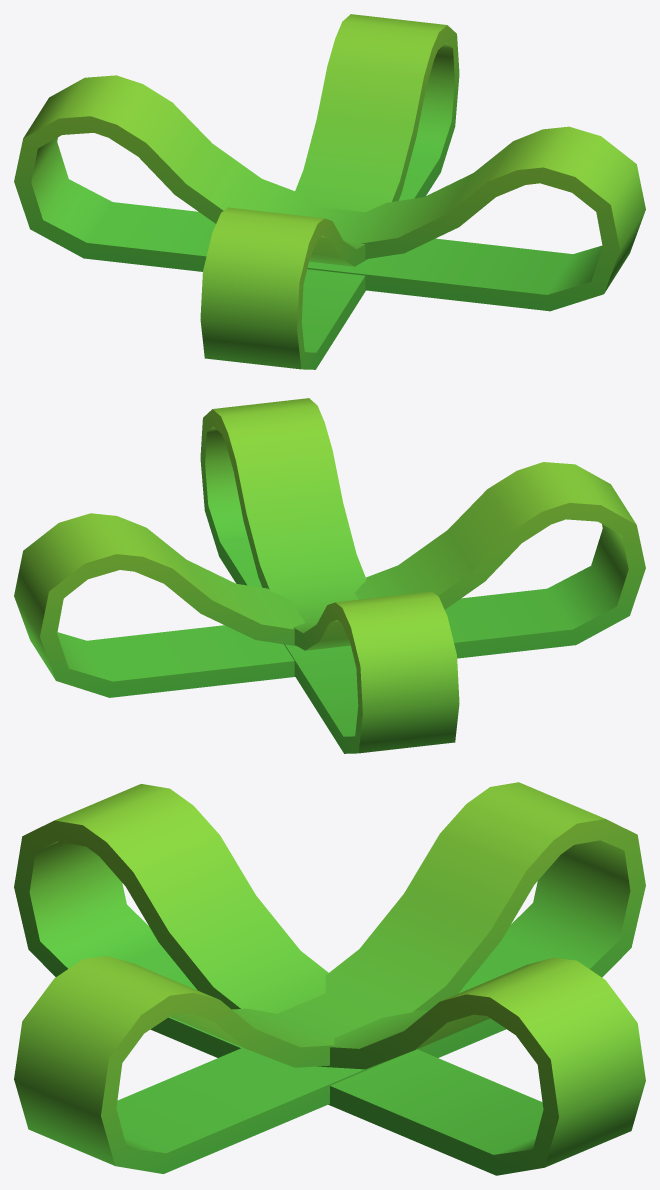
The model's file is bow_007.fbx.
3 renders of one model, top to bottom at view 1: azimuth 30°, elevation 25°; view 2: azimuth 150°, elevation 25°; view 3: azimuth 270°, elevation 25°, orthographic. The views are drawn at different scales.
Visible parts, largest first — view 1: bow_007; view 2: bow_007; view 3: bow_007.
Boxes of the visible parts, bbox=[...] form: bow_007: bbox=[14, 14, 645, 369]; bow_007: bbox=[14, 398, 645, 753]; bow_007: bbox=[14, 782, 645, 1175].
Size of the model in its own units: 167 by 167 by 51.72.
